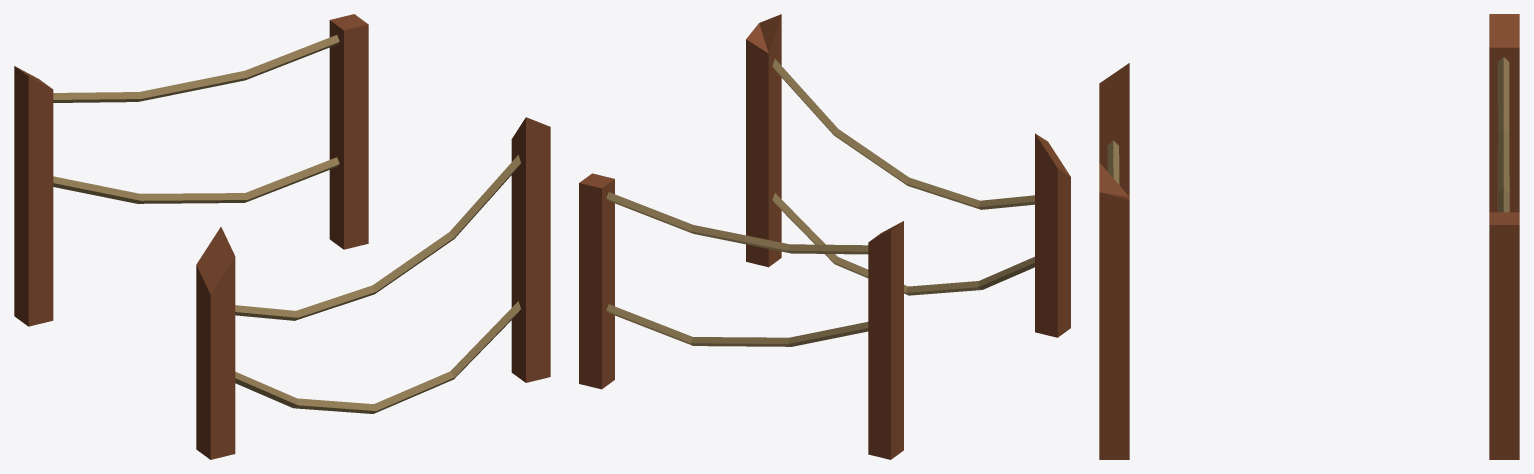
File: LP_PostApoc_WoodenRails.fbx
The picture shows the model from 3 angles, left to right: view 1: azimuth 30°, elevation 25°; view 2: azimuth 150°, elevation 25°; view 3: azimuth 270°, elevation 25°; orthographic projection. The views are drawn at different scales.
Visible parts, largest first — view 1: WoodenRails; view 2: WoodenRails; view 3: WoodenRails.
Part boxes in pixels (<box>): WoodenRails: <box>14,14,550,459</box>; WoodenRails: <box>579,14,1070,459</box>; WoodenRails: <box>1099,14,1519,459</box>.
Size of the model in its own units: 200 by 150 by 200.
